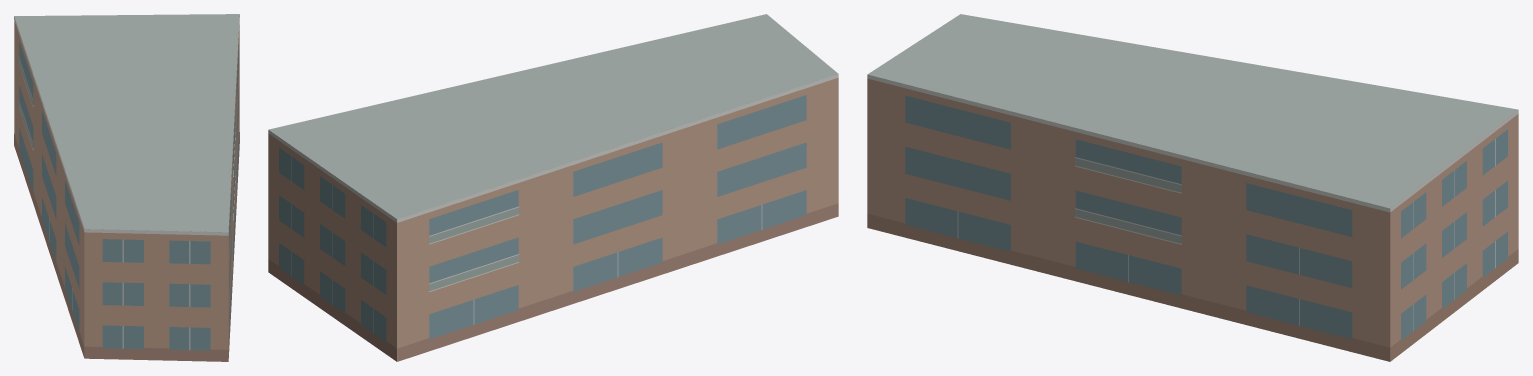
The model's file is survey-upis-32502884.glb.
3 views of the same model, side by side, from view 1: azimuth 30°, elevation 25°; view 2: azimuth 150°, elevation 25°; view 3: azimuth 270°, elevation 25° (orthographic). The views are drawn at different scales.
Parts seen in each view (by area): view 1: survey-upis-32502884.tmp; view 2: survey-upis-32502884.tmp; view 3: survey-upis-32502884.tmp.
Boxes of the visible parts, x1,y1,x2,y2 form: survey-upis-32502884.tmp: (14, 14, 239, 361); survey-upis-32502884.tmp: (268, 14, 838, 361); survey-upis-32502884.tmp: (867, 14, 1518, 361).
Size of the model in its own units: 25.29 by 9.3 by 35.79.
